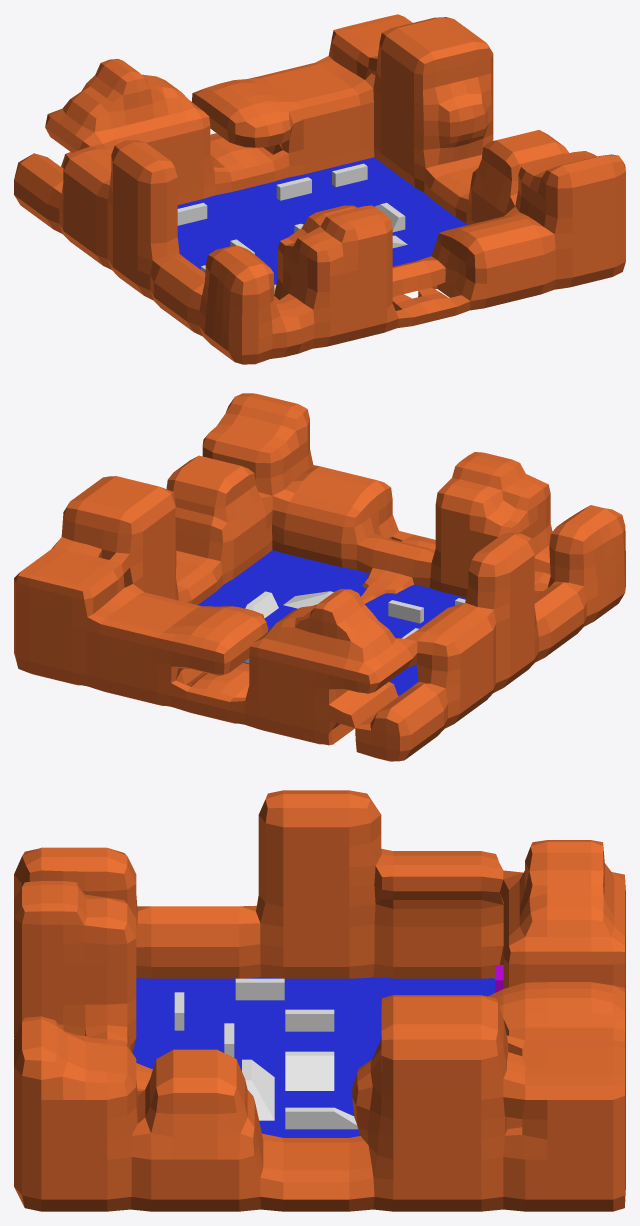
File: arena_level1.glb
3 renders of one model, top to bottom at view 1: azimuth 30°, elevation 25°; view 2: azimuth 150°, elevation 25°; view 3: azimuth 270°, elevation 25°, orthographic. The views are drawn at different scales.
Parts seen in each view (by area): view 1: LEVEL, GROUND, Wall.001, Wall, Wall.002; view 2: LEVEL, GROUND, Wall.007, Wall.005; view 3: LEVEL, GROUND, Wall.004, Wall.005, Wall.006, Wall.003, Wall.008.
Part boxes in pixels (x1,y1,x2,y2): LEVEL: [14, 14, 625, 364]; GROUND: [177, 157, 467, 284]; Wall.001: [276, 177, 311, 200]; Wall: [332, 163, 367, 186]; Wall.002: [177, 202, 207, 225]; LEVEL: [14, 393, 625, 761]; GROUND: [198, 550, 465, 695]; Wall.007: [388, 600, 423, 623]; Wall.005: [245, 591, 278, 618]; LEVEL: [14, 790, 625, 1211]; GROUND: [132, 977, 494, 1137]; Wall.004: [285, 1051, 334, 1090]; Wall.005: [285, 1107, 357, 1129]; Wall.006: [242, 1059, 274, 1120]; Wall.003: [285, 1009, 334, 1031]; Wall.008: [235, 978, 284, 1000].
Bounding box in the file's own units: 125 × 41.61 × 125.
